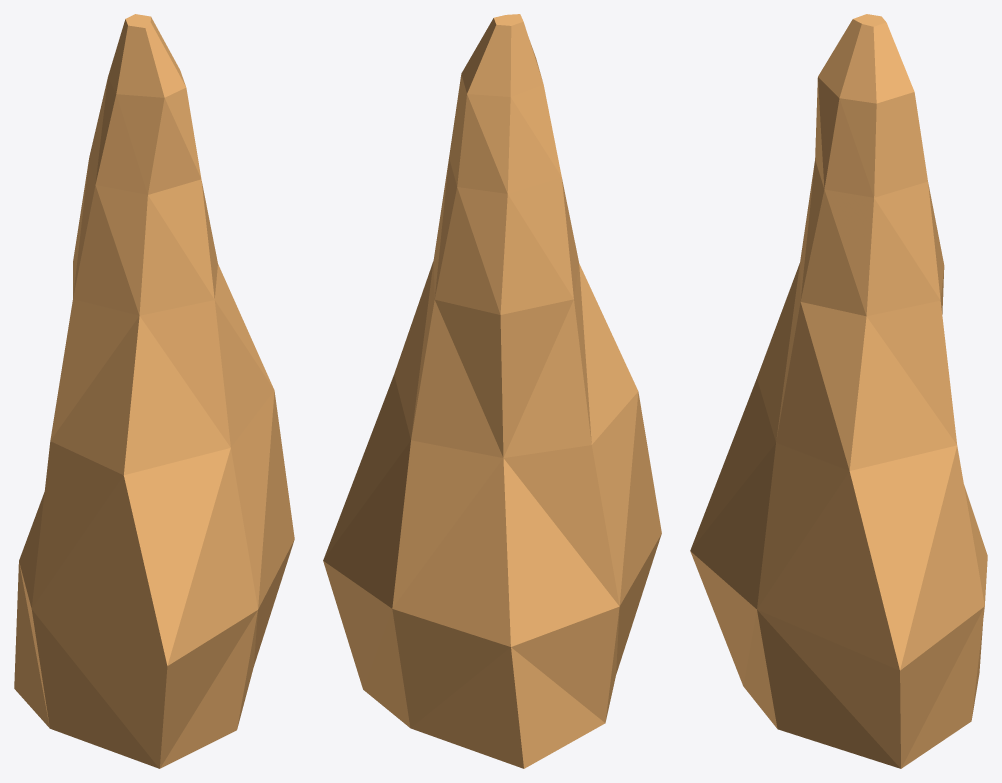
Rendered from spike_1.fbx.
3 views of the same model, side by side, from view 1: azimuth 30°, elevation 25°; view 2: azimuth 150°, elevation 25°; view 3: azimuth 270°, elevation 25° (orthographic).
Visible parts, largest first — view 1: Type_first1; view 2: Type_first1; view 3: Type_first1.
Boxes of the visible parts, left/top/right/bottom form: Type_first1: left=14, top=14, right=294, bottom=768; Type_first1: left=323, top=14, right=661, bottom=768; Type_first1: left=690, top=14, right=987, bottom=768.
Size of the model in its own units: 1.57 by 3.7 by 1.45.
